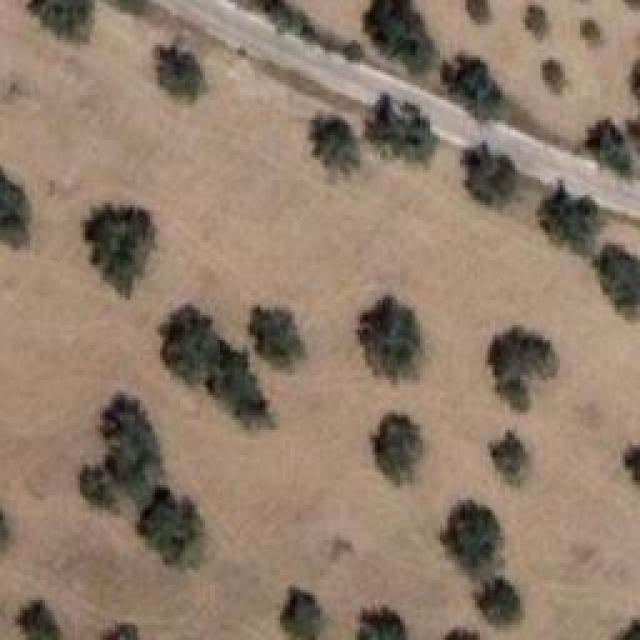Tree: (73, 398, 163, 506), (85, 205, 155, 298), (488, 327, 558, 412), (358, 295, 422, 382), (365, 0, 439, 73), (368, 95, 439, 162), (140, 493, 204, 566), (160, 303, 220, 378), (213, 350, 271, 425), (445, 53, 505, 120), (440, 504, 501, 568), (538, 183, 602, 244), (590, 242, 640, 316), (373, 413, 424, 485), (465, 140, 516, 203), (255, 308, 306, 370), (310, 115, 361, 173), (585, 118, 634, 175), (30, 0, 93, 42), (158, 45, 205, 101), (0, 168, 30, 249), (475, 578, 524, 626), (490, 430, 528, 485), (282, 587, 321, 640), (20, 600, 60, 640), (358, 610, 406, 640), (525, 5, 546, 40), (543, 60, 563, 95), (102, 625, 140, 640), (580, 20, 601, 47), (465, 0, 487, 23)
